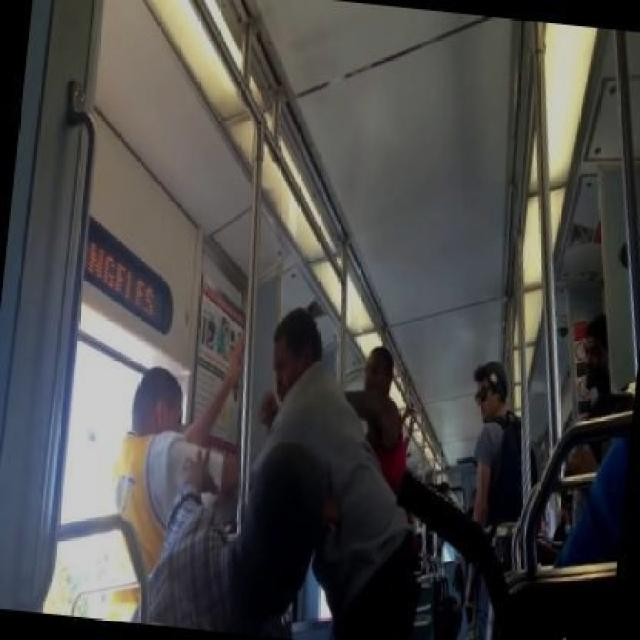fight: (116, 307, 418, 640)
non-fight: (472, 361, 523, 640)
